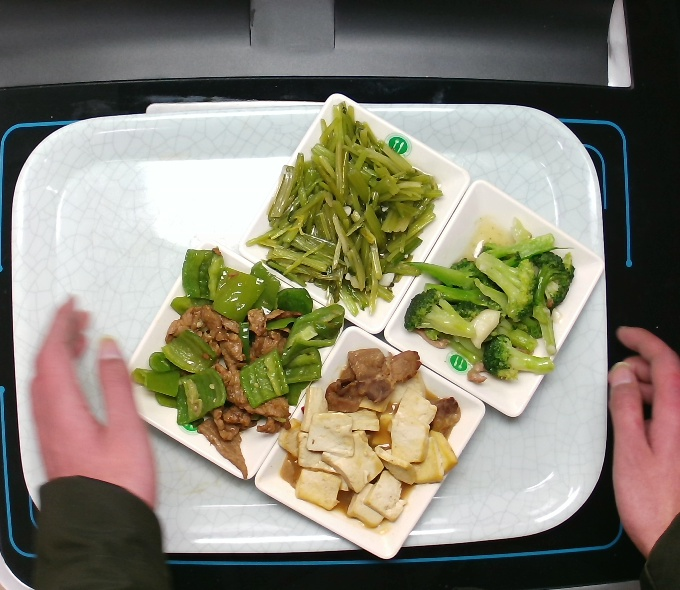wcq-DouFuRouPian: (291, 342, 477, 533)
wcq-QinCai: (267, 110, 428, 306)
wcq-QingJiaoChaoRou: (159, 241, 338, 478)
wcq-XiLanHua: (404, 229, 585, 389)
